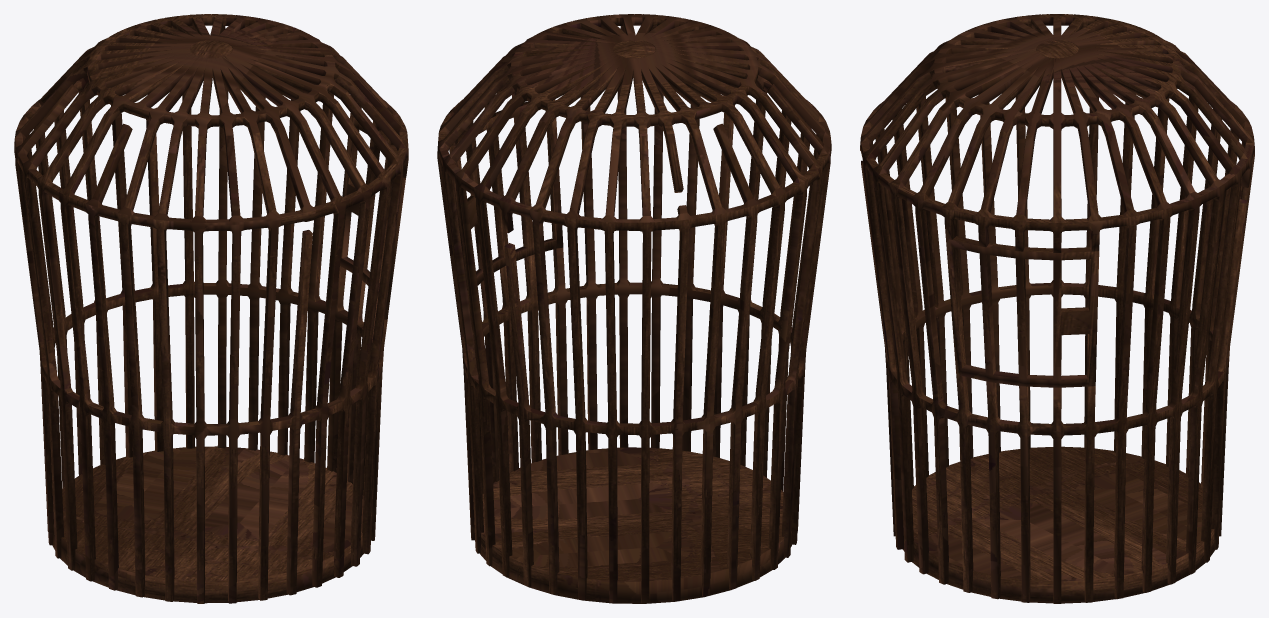
The model's file is cage.fbx.
3 renders of one model, left to right at view 1: azimuth 30°, elevation 25°; view 2: azimuth 150°, elevation 25°; view 3: azimuth 270°, elevation 25°, orthographic.
Parts seen in each view (by area): view 1: Cylinder.001, Cylinder.002; view 2: Cylinder.001, Cylinder.002; view 3: Cylinder.001, Cylinder.002.
Part boxes in pixels (bbox=[...]): Cylinder.001: bbox=[14, 14, 408, 603]; Cylinder.002: bbox=[340, 116, 405, 319]; Cylinder.001: bbox=[437, 14, 831, 603]; Cylinder.002: bbox=[449, 99, 563, 290]; Cylinder.001: bbox=[860, 14, 1254, 603]; Cylinder.002: bbox=[946, 236, 1099, 387].
Size of the model in its own units: 303 by 416 by 303.
